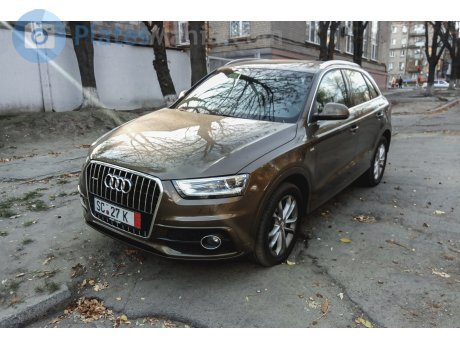License Plates: (96, 197, 134, 220)
